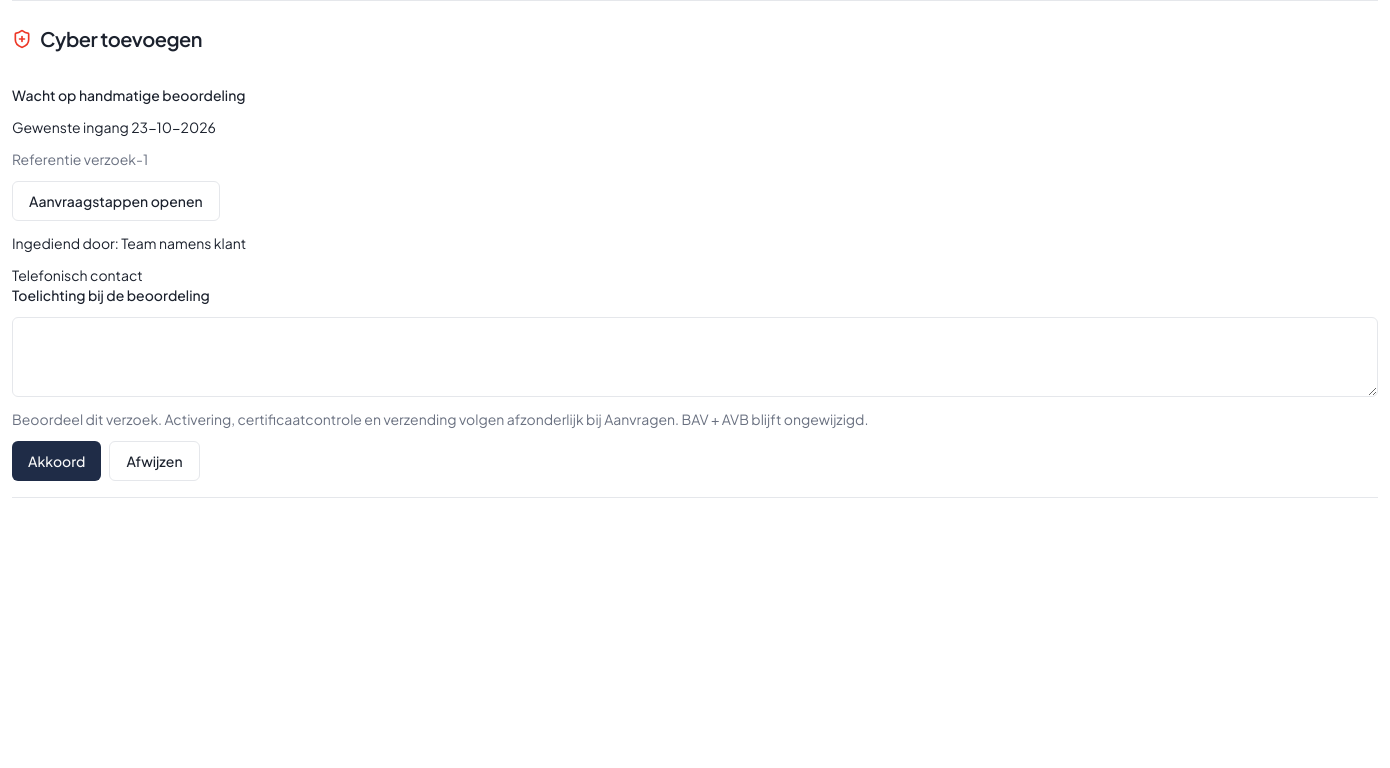
Cyberverzoek klant en team › lege beoordeling stuurt geen akkoordpoging en laat de aanvraag wachten
Click the button "Akkoord": (57, 461) [12,441,102,481]
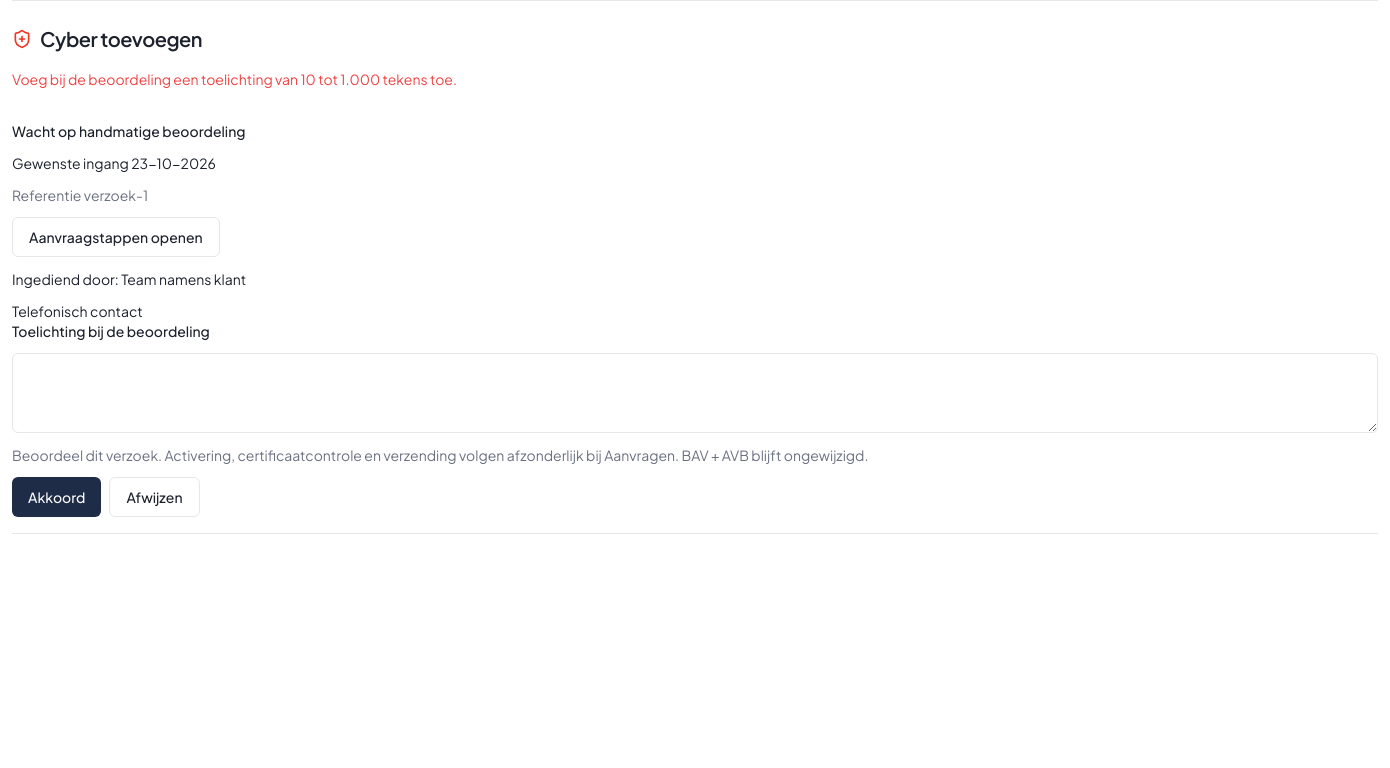
Check: the message shows "10 tot 1.000 tekens", box [12,70,457,88]
